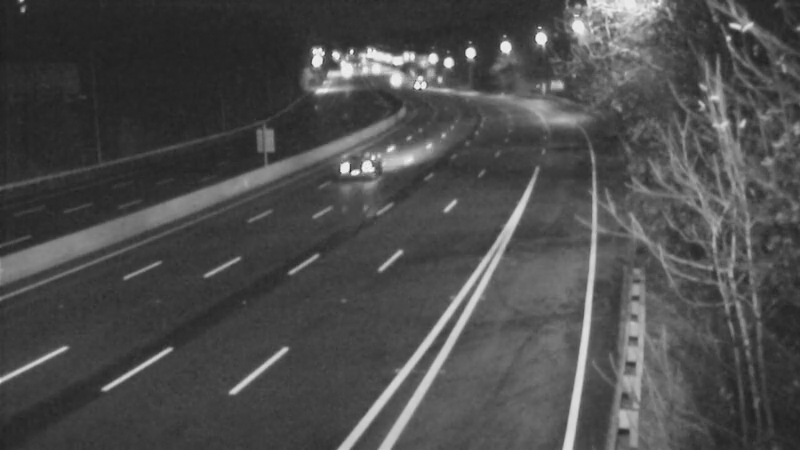vehicle: (319, 126, 399, 206), (370, 55, 420, 105), (394, 56, 444, 106)
